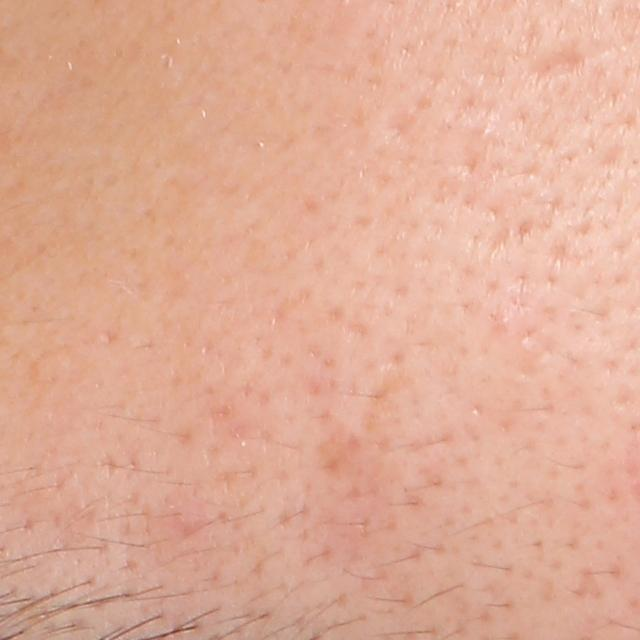atrophic_scar: (370, 86, 436, 147), (354, 369, 406, 433), (521, 47, 588, 85)
